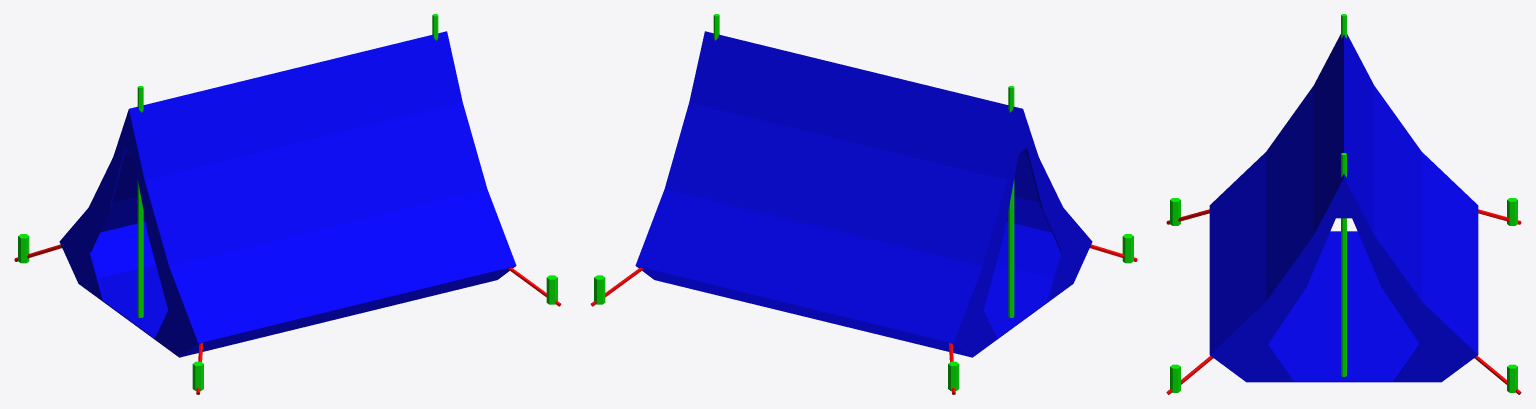
Rendered from SM_Tent.fbx.
The picture shows the model from 3 angles, left to right: view 1: azimuth 30°, elevation 25°; view 2: azimuth 150°, elevation 25°; view 3: azimuth 270°, elevation 25°; orthographic projection. The views are drawn at different scales.
Parts seen in each view (by area): view 1: Cylinder.006; view 2: Cylinder.006; view 3: Cylinder.006.
Boxes of the visible parts, x1,y1,x2,y2 form: Cylinder.006: (14,14,561,394); Cylinder.006: (590,14,1137,394); Cylinder.006: (1166,14,1521,394).
Size of the model in its own units: 487 by 559 by 341.
